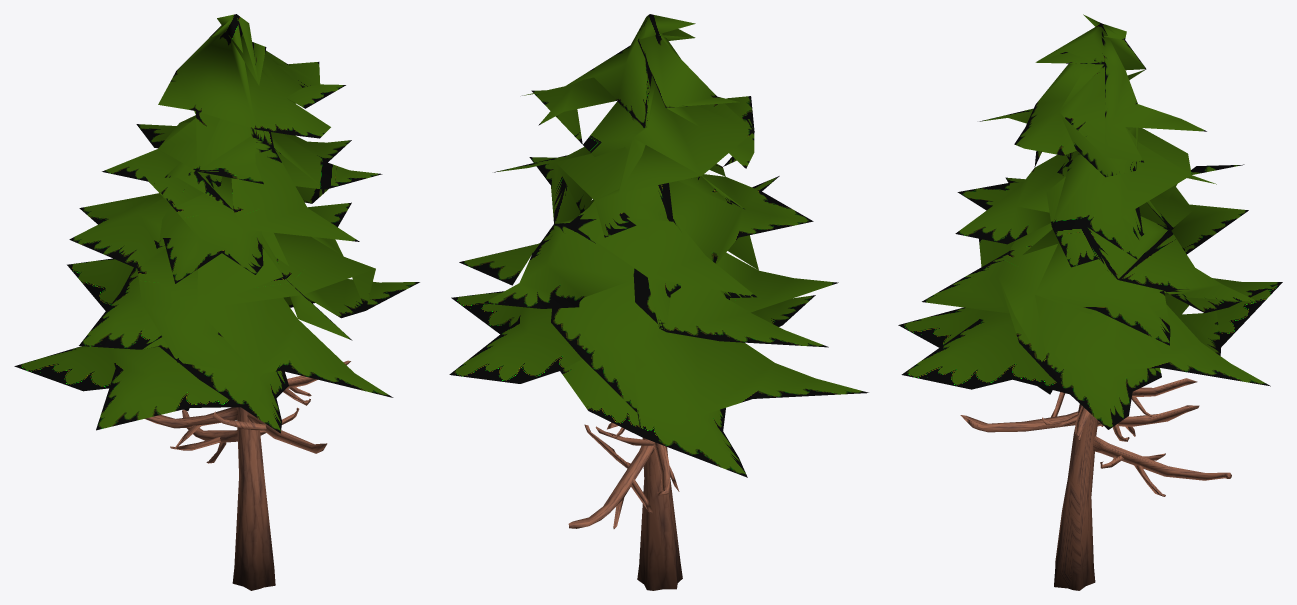
The model's file is Pine_1.gltf.
3 views of the same model, side by side, from view 1: azimuth 30°, elevation 25°; view 2: azimuth 150°, elevation 25°; view 3: azimuth 270°, elevation 25° (orthographic). The views are drawn at different scales.
Parts seen in each view (by area): view 1: Pine_1; view 2: Pine_1; view 3: Pine_1.
Part boxes in pixels (left/top/right/bottom): Pine_1: left=14, top=14, right=419, bottom=590; Pine_1: left=449, top=14, right=868, bottom=590; Pine_1: left=898, top=14, right=1282, bottom=590.
Bounding box in the file's own units: 4.94 × 7.24 × 4.54.
2 materials, 2 textured.
